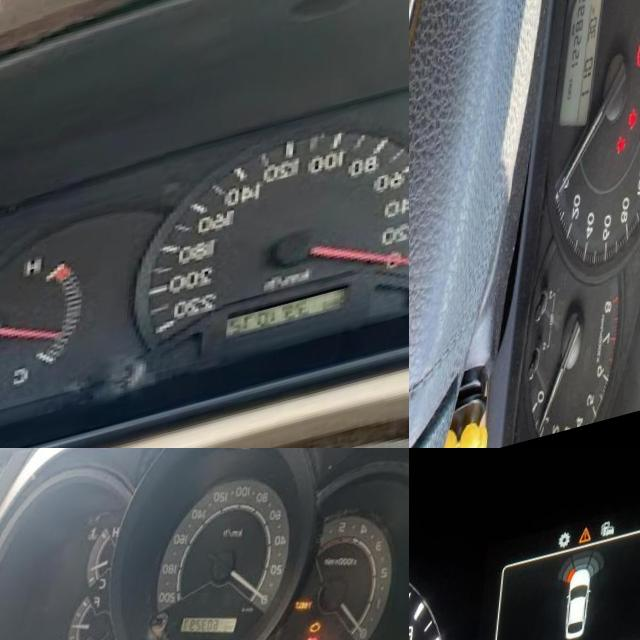Central Warning lamp: (583, 540, 597, 559)
